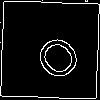O: (25, 25, 86, 85)
